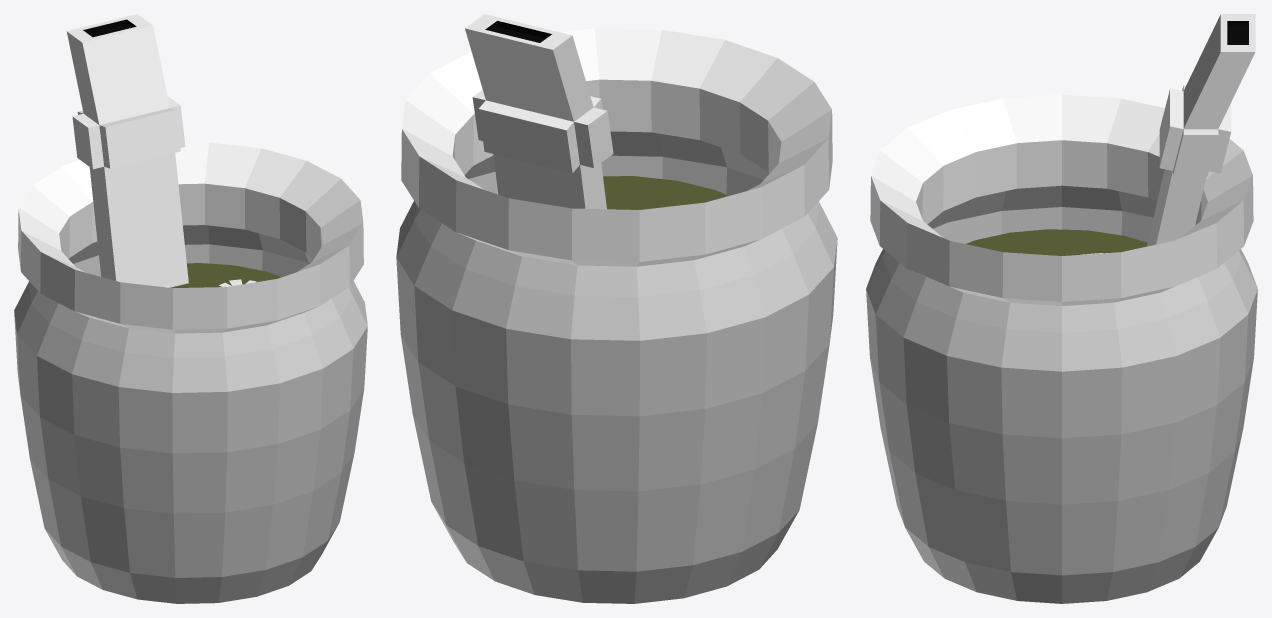
Rendered from mate.glb.
3 renders of one model, left to right at view 1: azimuth 30°, elevation 25°; view 2: azimuth 150°, elevation 25°; view 3: azimuth 270°, elevation 25°, orthographic. The views are drawn at different scales.
Visible parts, largest first — view 1: mate; view 2: mate; view 3: mate.
Part boxes in pixels (x1,y1,x2,y2): mate: (14,14,367,603); mate: (396,14,837,603); mate: (866,14,1257,603).
Bounding box in the file's own units: 2.7 × 3.88 × 2.7.
